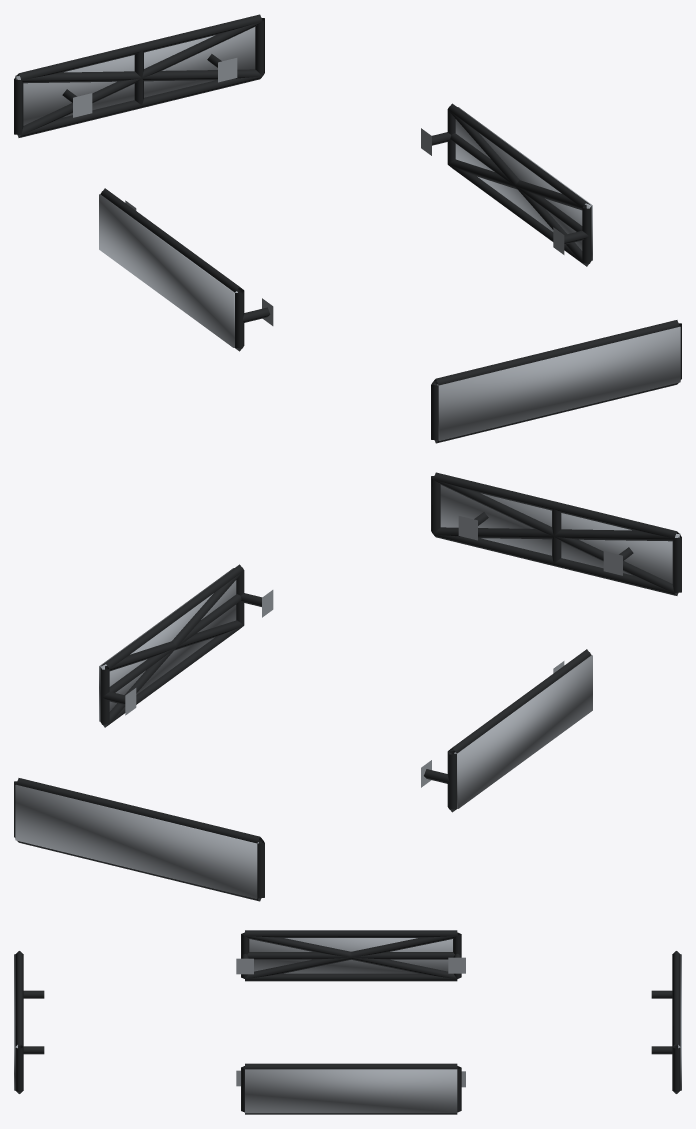
Rendered from volnar_taiga_protecao.glb.
3 views of the same model, one above another, from view 1: azimuth 30°, elevation 25°; view 2: azimuth 150°, elevation 25°; view 3: azimuth 270°, elevation 25° (orthographic). The views are drawn at different scales.
Visible parts, largest first — view 1: Protection_front_Level3_Details, Protection_left_Level3_Details, Protection_rear_Level1_Details, Protection_rear_Level3_Details, Protection_rear_Level2_Details, Protection_right_Level1_Details, Protection_right_Level2_Details, Protection_front_Level1_Details, Protection_right_Level3_Details, Protection_left_Level1_Details; view 2: Protection_rear_Level3_Details, Protection_left_Level3_Details, Protection_front_Level1_Details, Protection_front_Level3_Details, Protection_front_Level2_Details, Protection_right_Level1_Details, Protection_right_Level2_Details, Protection_rear_Level1_Details, Protection_right_Level3_Details, Protection_left_Level1_Details; view 3: Protection_right_Level3_Details, Protection_left_Level1_Details, Protection_left_Level2_Details, Protection_left_Level3_Details, Protection_right_Level1_Details, Protection_rear_Level1_Details, Protection_front_Level1_Details.
Part boxes in pixels (bbox=[...]): Protection_front_Level3_Details: bbox=[437, 326, 680, 440]; Protection_left_Level3_Details: bbox=[99, 194, 237, 347]; Protection_rear_Level1_Details: bbox=[14, 14, 264, 137]; Protection_rear_Level3_Details: bbox=[15, 27, 255, 125]; Protection_rear_Level2_Details: bbox=[16, 21, 262, 136]; Protection_right_Level1_Details: bbox=[421, 103, 591, 266]; Protection_right_Level2_Details: bbox=[448, 110, 590, 266]; Protection_front_Level1_Details: bbox=[431, 320, 681, 443]; Protection_right_Level3_Details: bbox=[455, 107, 592, 260]; Protection_left_Level1_Details: bbox=[100, 188, 273, 351]; Protection_rear_Level3_Details: bbox=[15, 784, 258, 898]; Protection_left_Level3_Details: bbox=[454, 655, 592, 808]; Protection_front_Level1_Details: bbox=[431, 472, 681, 595]; Protection_front_Level3_Details: bbox=[440, 485, 680, 583]; Protection_front_Level2_Details: bbox=[433, 479, 679, 594]; Protection_right_Level1_Details: bbox=[100, 564, 273, 727]; Protection_right_Level2_Details: bbox=[101, 571, 243, 727]; Protection_rear_Level1_Details: bbox=[14, 778, 264, 901]; Protection_right_Level3_Details: bbox=[99, 568, 236, 721]; Protection_left_Level1_Details: bbox=[421, 649, 591, 812]; Protection_right_Level3_Details: bbox=[245, 1069, 457, 1113]; Protection_left_Level1_Details: bbox=[236, 930, 465, 981]; Protection_left_Level2_Details: bbox=[244, 934, 457, 979]; Protection_left_Level3_Details: bbox=[249, 938, 452, 973]; Protection_right_Level1_Details: bbox=[236, 1063, 465, 1114]; Protection_rear_Level1_Details: bbox=[651, 951, 680, 1093]; Protection_front_Level1_Details: bbox=[15, 951, 44, 1093].
Size of the model in its own units: 2.05 by 0.354 by 4.19.
Materials: 1 (1 with a texture image).
